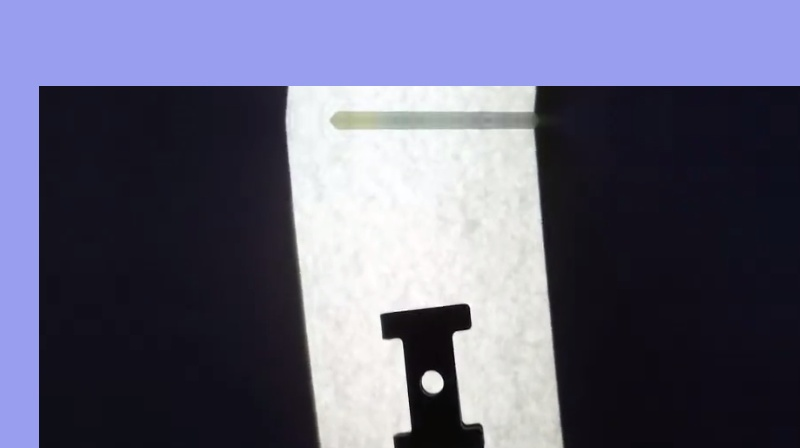O002: (374, 293, 487, 447)
